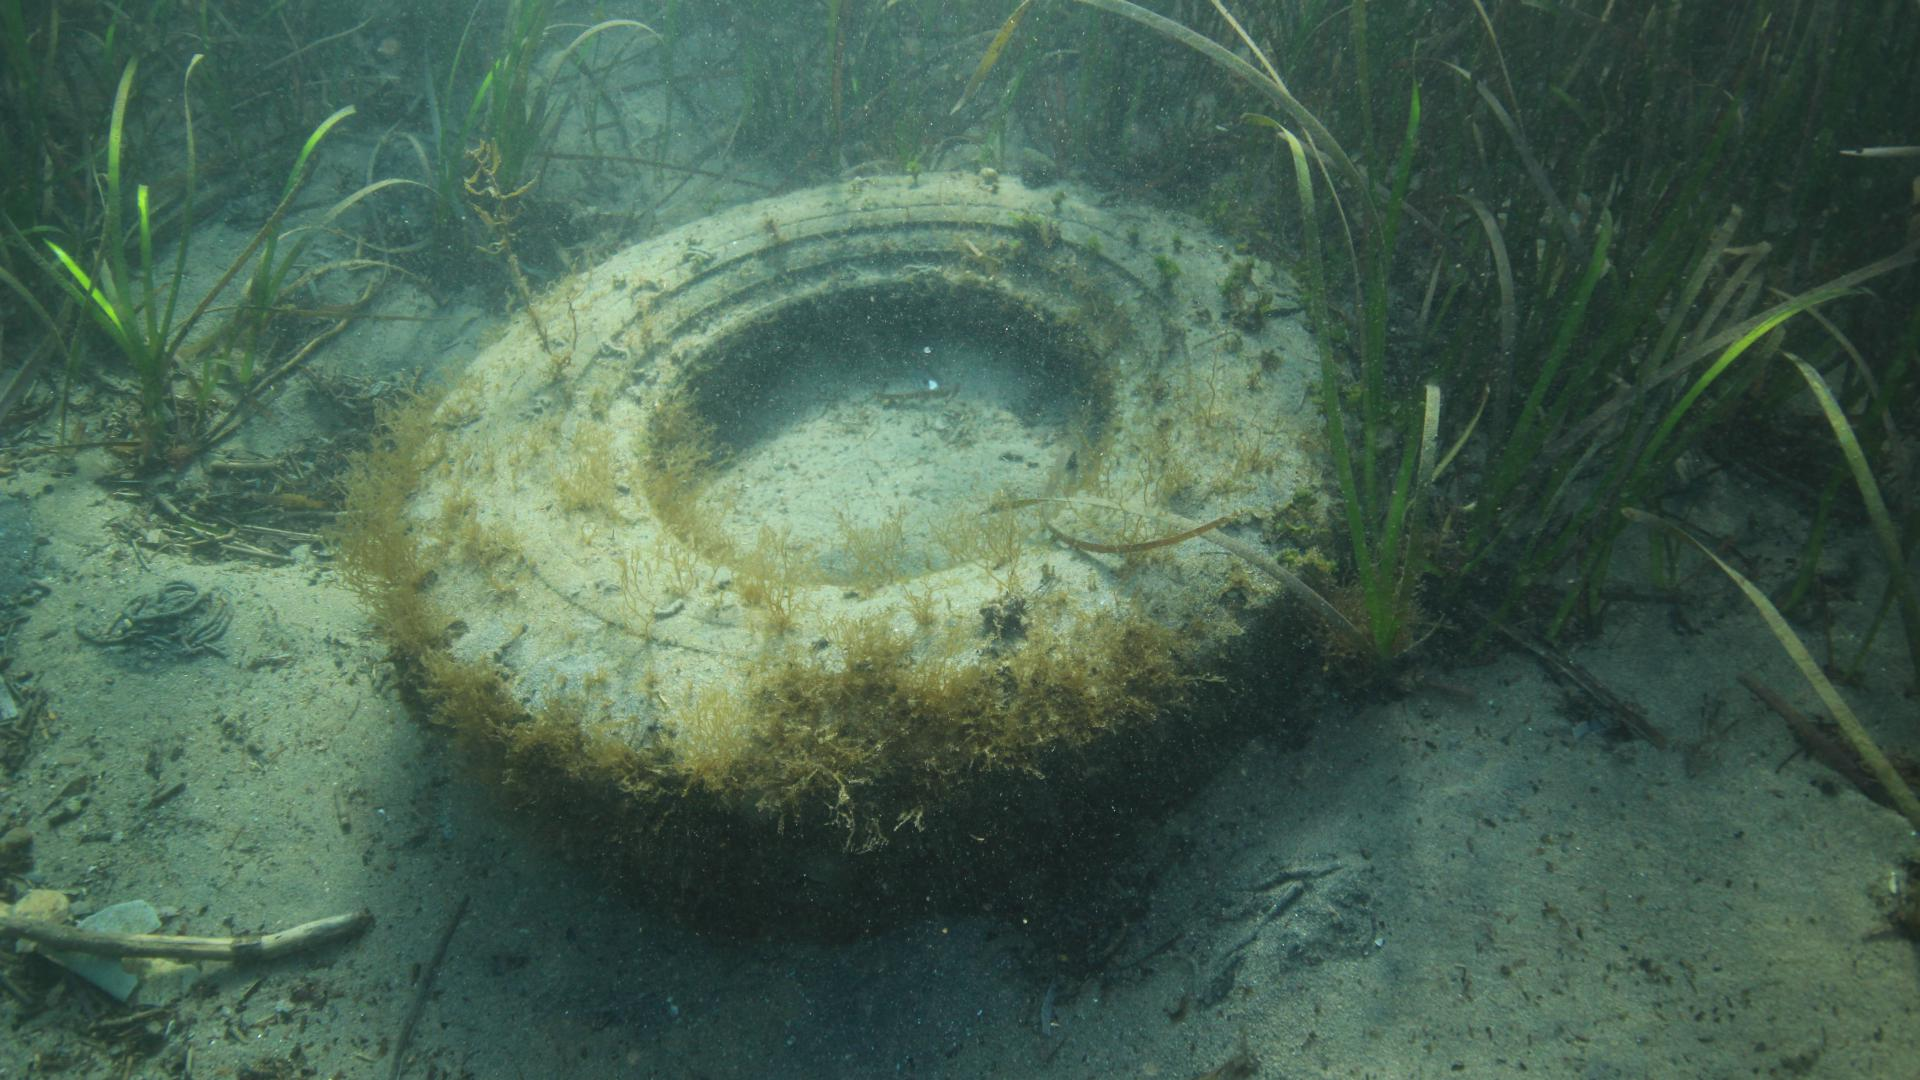tire: (393, 167, 1338, 942)
